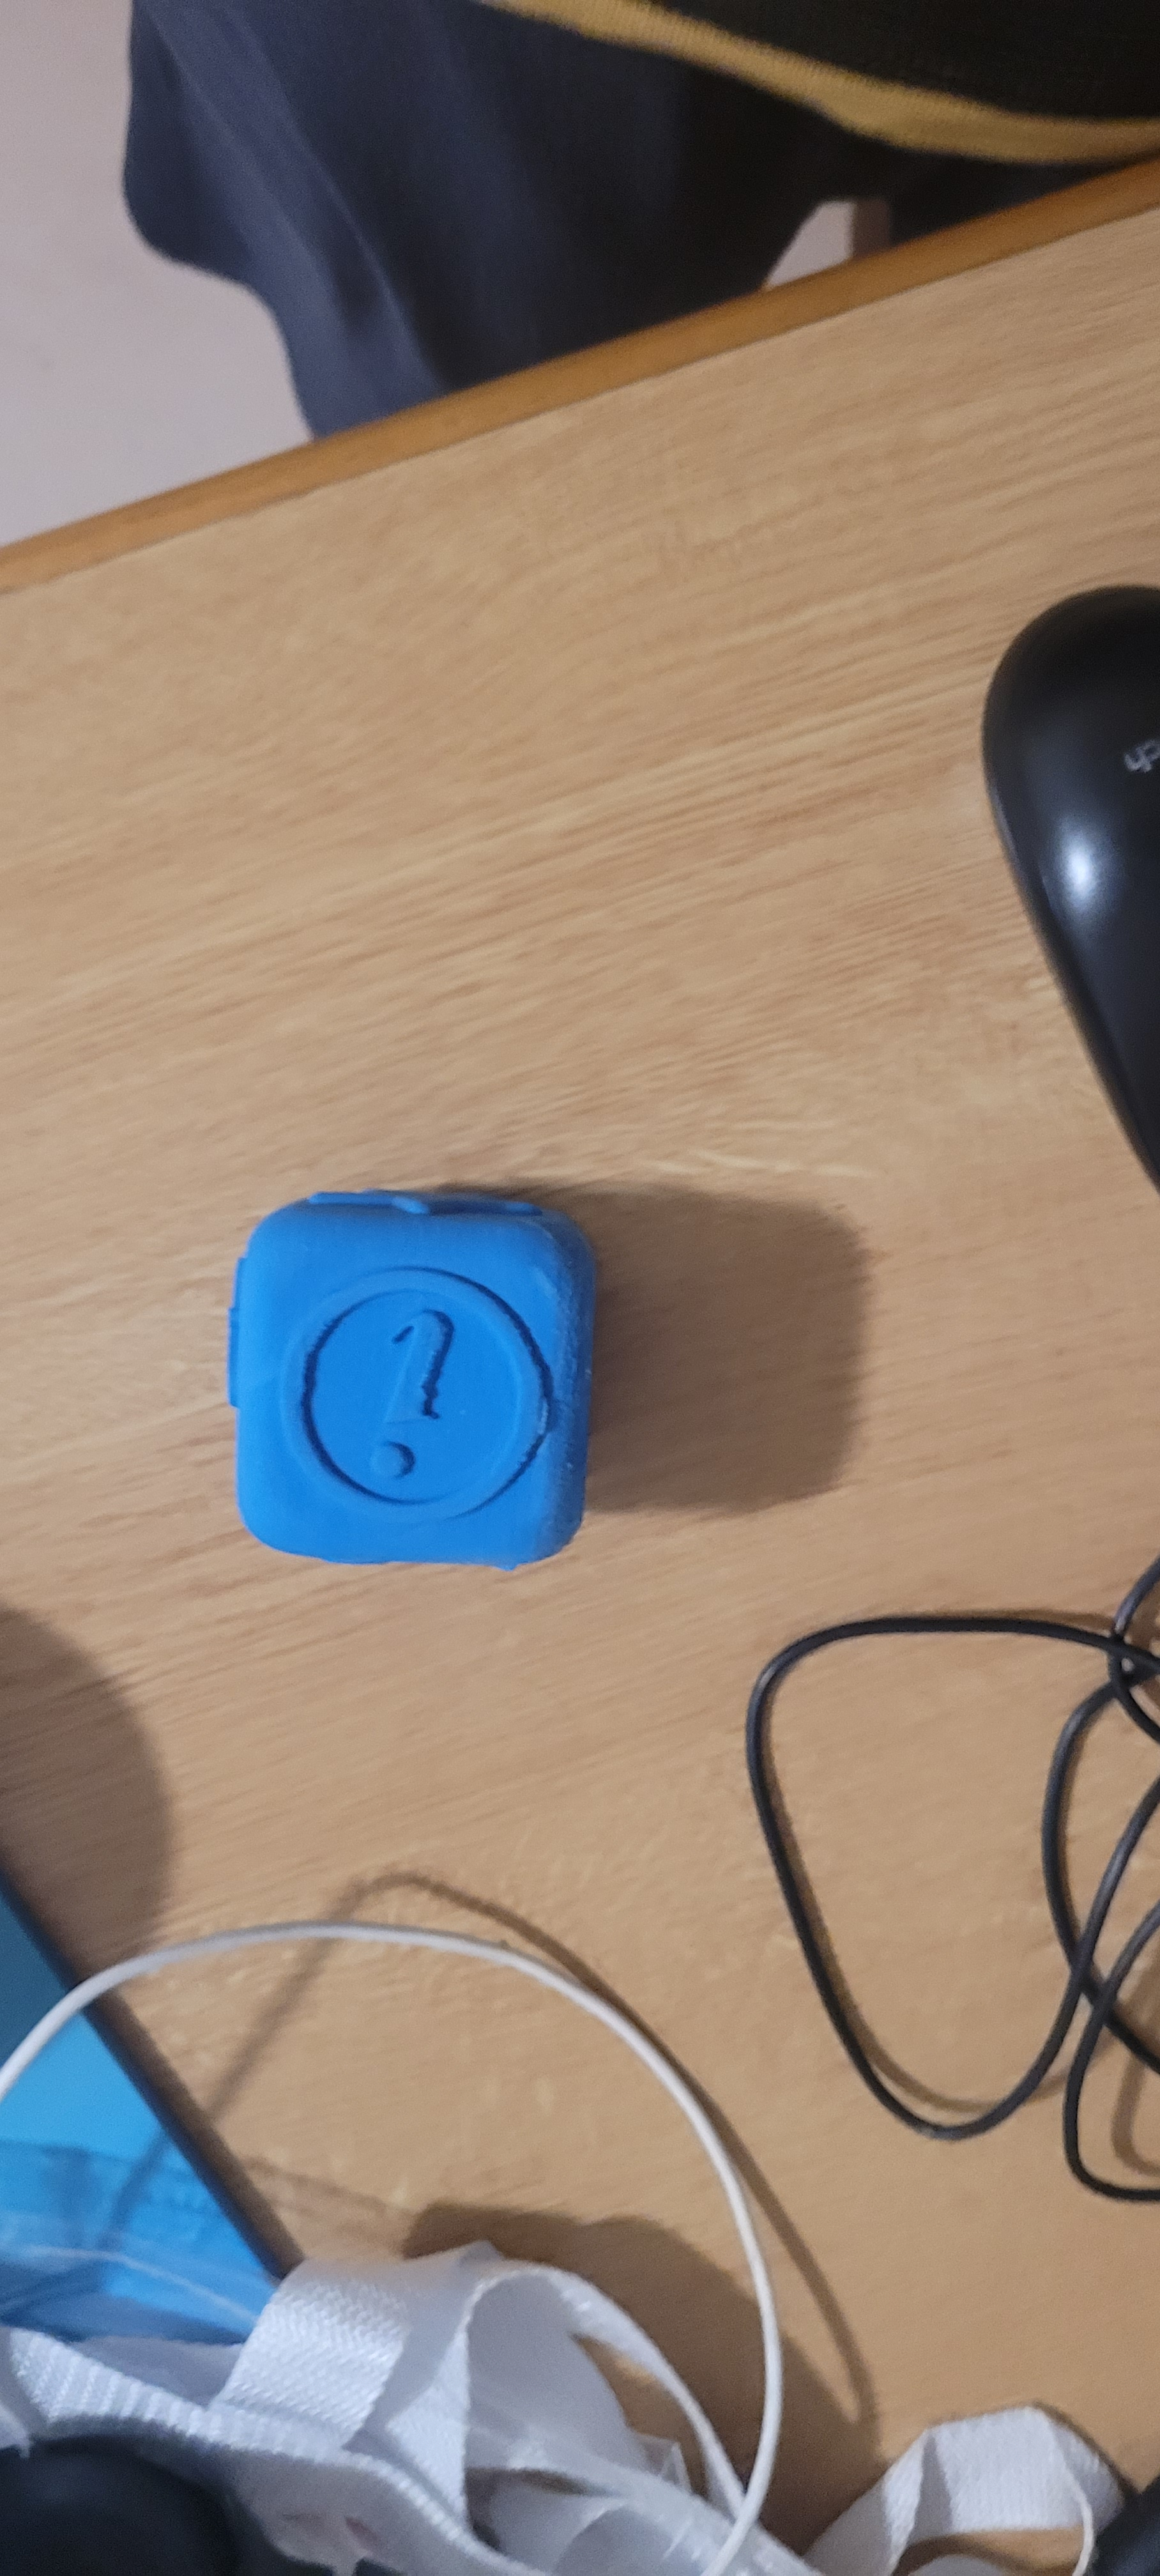Info: (251, 1262, 565, 1539)
